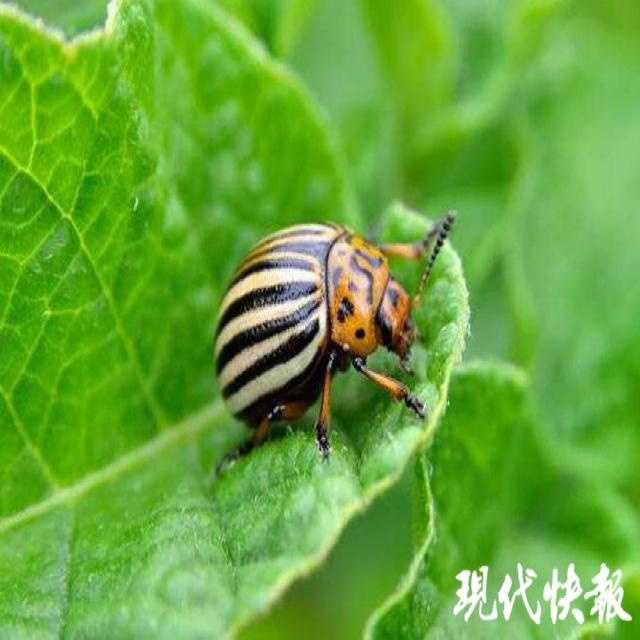ShuCaiHuaBanChong-Grown-: (212, 205, 438, 442)
